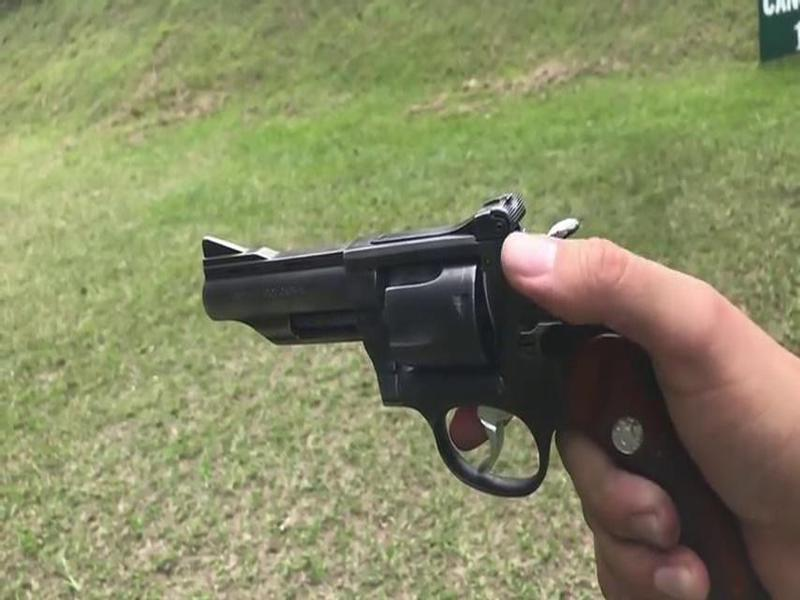Revolver: (167, 177, 724, 559)
